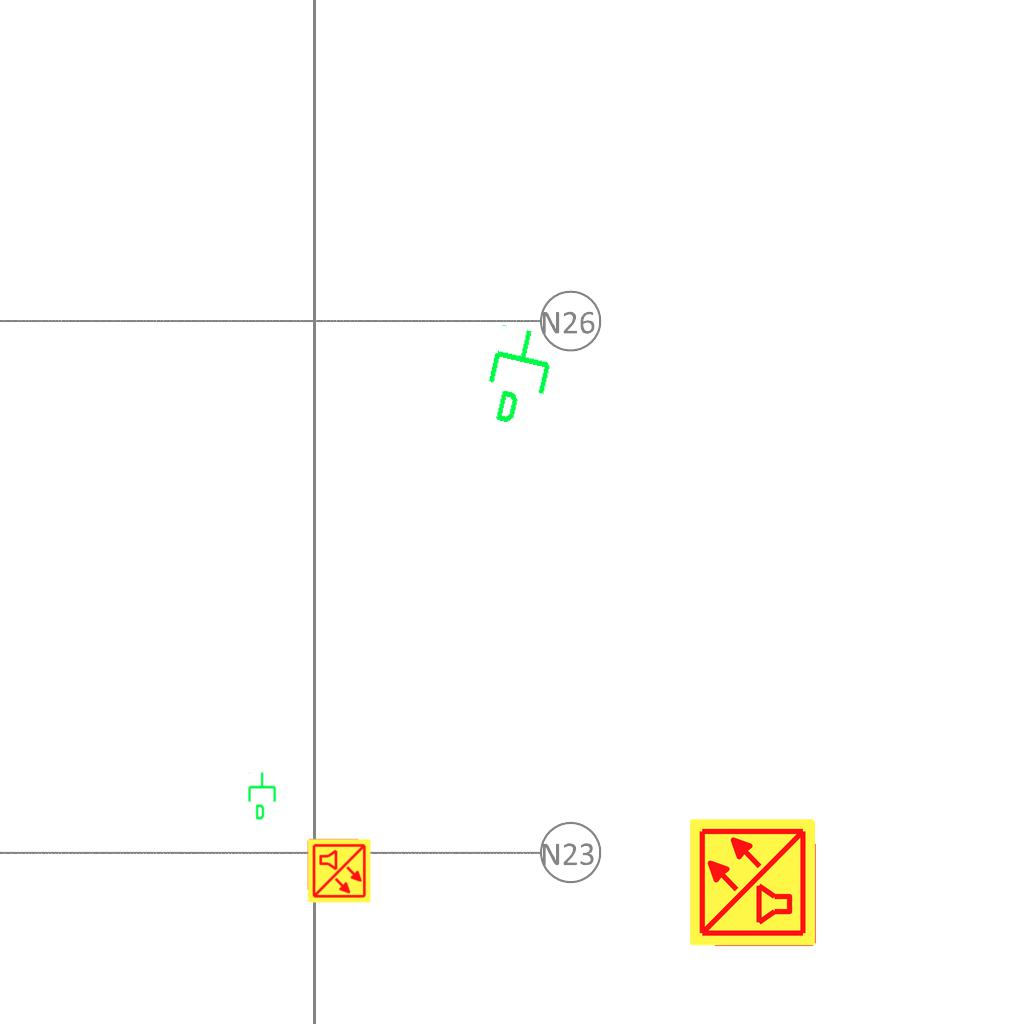Datenanschluss_einfach: (475, 320, 566, 434), (246, 771, 280, 821)
OKW_Multisensormelder_(Kombination_optischer_Rauch-Kahlenmonoxid_Waerme-Melder): (687, 816, 819, 948), (306, 838, 372, 904)
